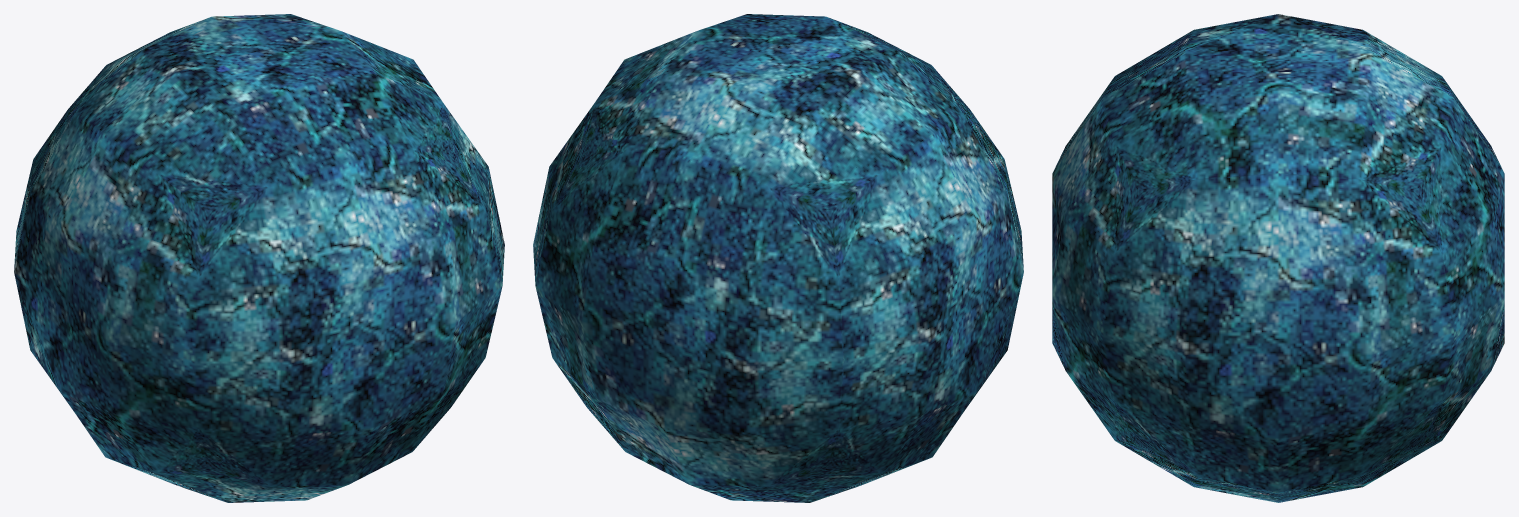
File: cef_cryoban_grenade.fbx
3 views of the same model, side by side, from view 1: azimuth 30°, elevation 25°; view 2: azimuth 150°, elevation 25°; view 3: azimuth 270°, elevation 25° (orthographic).
Visible parts, largest first — view 1: mesh_node; view 2: mesh_node; view 3: mesh_node.
Part boxes in pixels (box(x1,y1,x2,y2)): mesh_node: box(14, 14, 504, 502); mesh_node: box(533, 14, 1023, 502); mesh_node: box(1052, 14, 1504, 502).
Bounding box in the file's own units: 1.33 × 1.33 × 1.33.
